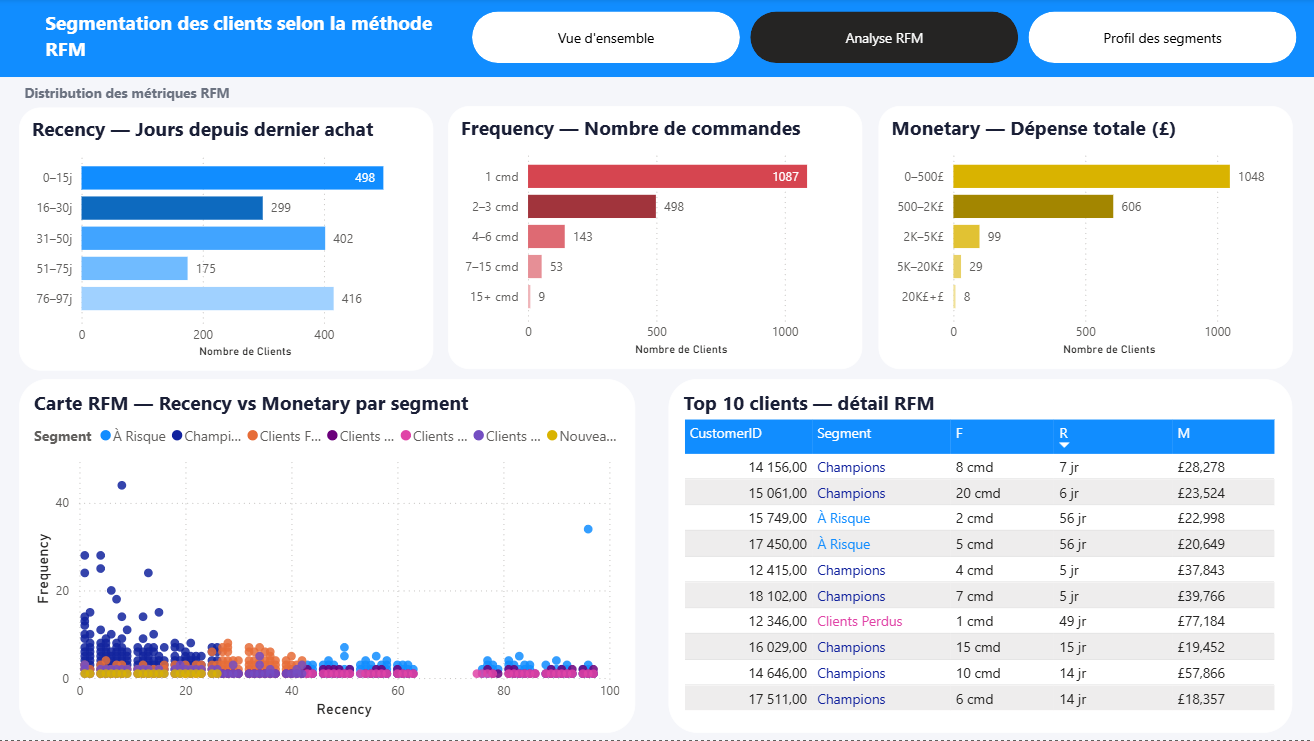

The page's visual inventory and layout, read from the dashboard file:
{"tool":"powerbi","page":{"name":"Analyse RFM","canvas":[1280,720],"ordinal":1},"visuals":[{"type":"textbox","box":[23.3,76.7,320,35],"z":0},{"type":"clusteredBarChart","title":"Recency — Jours depuis dernier achat","fields":{"Category":["rfm_final.Recency_Tranche"],"Y":["rfm_final.Clients analysés"]},"box":[23.3,105.6,402.2,255.6],"z":1000},{"type":"tableEx","title":"Top 10 clients — détail RFM","fields":{"Values":["rfm_final.CustomerID","rfm_final.Segment","rfm_final.F","rfm_final.R","rfm_final.M"]},"box":[653.5,369.7,605.5,343.5],"z":2000},{"type":"scatterChart","title":"Carte RFM — Recency vs Monetary par segment","fields":{"Series":["rfm_final.Segment"],"X":["rfm_final.Recency"],"Y":["rfm_final.Frequency"]},"box":[23.3,369.7,598.2,343.5],"z":3000},{"type":"clusteredBarChart","title":"Frequency — Nombre de commandes","fields":{"Y":["rfm_final.Clients analysés"],"Category":["rfm_final.Frequency_Tranche"]},"box":[440,105,401.7,255],"z":4000},{"type":"clusteredBarChart","title":"Monetary — Dépense totale (£)","fields":{"Category":["rfm_final.Monetary_Tranche"],"Y":["rfm_final.Clients analysés"]},"box":[856.7,105,401.7,255],"z":5000},{"type":"shape","box":[0,0,1280,76.7],"z":6000},{"type":"textbox","box":[43.6,6.4,420,63.6],"z":7000},{"type":"pageNavigator","box":[463.3,13.3,800,50],"z":8000}]}

Visuals, with their boxes in screenshot pixels (x1, y1, x2, y2), scaled from the page's 1280x720 canvas onto the 1314x741 screenshot:
textbox: left=24, top=79, right=352, bottom=115
"Recency — Jours depuis dernier achat" clusteredBarChart: left=24, top=109, right=437, bottom=372
"Top 10 clients — détail RFM" tableEx: left=671, top=380, right=1292, bottom=734
"Carte RFM — Recency vs Monetary par segment" scatterChart: left=24, top=380, right=638, bottom=734
"Frequency — Nombre de commandes" clusteredBarChart: left=452, top=108, right=864, bottom=370
"Monetary — Dépense totale (£)" clusteredBarChart: left=879, top=108, right=1292, bottom=370
shape: left=0, top=0, right=1313, bottom=79
textbox: left=45, top=7, right=476, bottom=72
pageNavigator: left=476, top=14, right=1297, bottom=65
